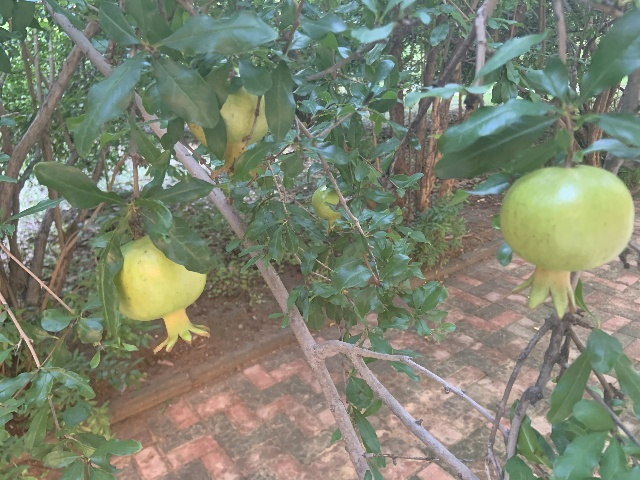mid-growth: (497, 165, 633, 319), (114, 234, 210, 354), (185, 67, 268, 180), (311, 184, 341, 235)
